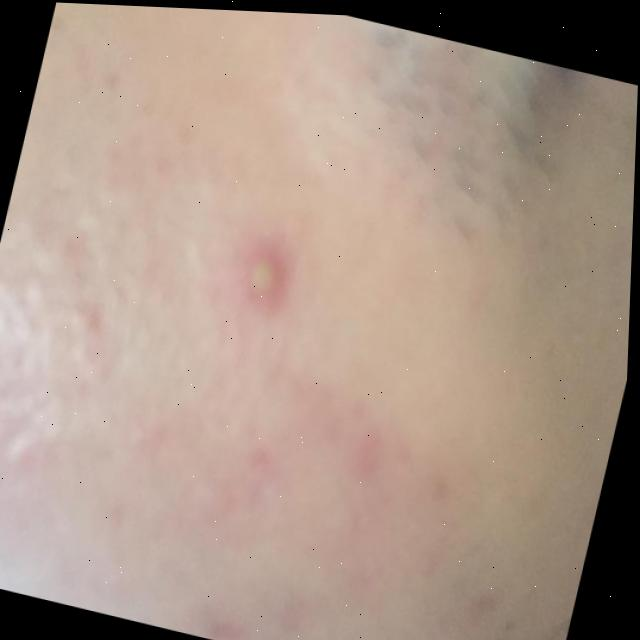Acne: (217, 231, 287, 328)
